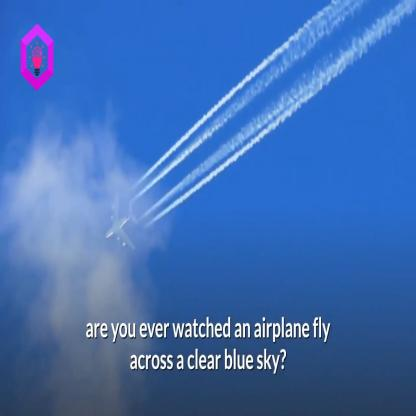plane: (100, 191, 144, 259)
